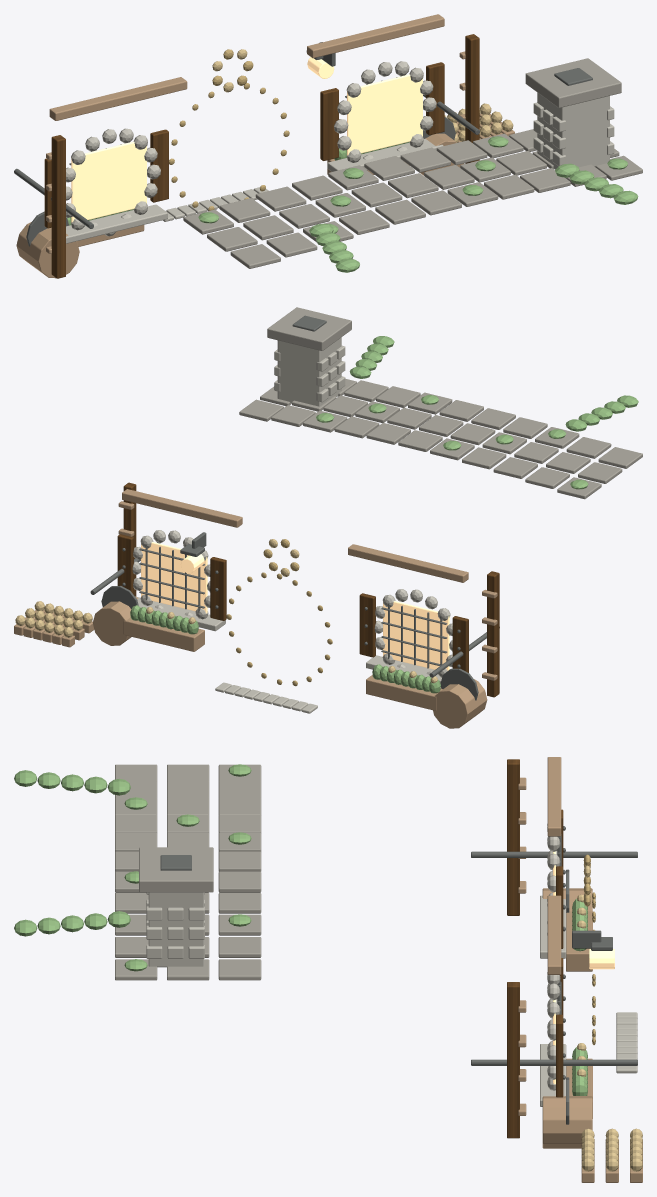
The model's file is shire_market_cottage_craftwork.glb.
3 views of the same model, one above another, from view 1: azimuth 30°, elevation 25°; view 2: azimuth 150°, elevation 25°; view 3: azimuth 270°, elevation 25° (orthographic). The views are drawn at different scales.
Parts seen in each view (by area): view 1: Art_roof_slate, Art_rounded_fieldstone, Art_amber_glass, Art_oak_grain_original, Art_weathered_wood, Art_ivy_and_herbs, Art_forged_iron, Art_household_motif_color, Art_warm_brass; view 2: Art_roof_slate, Art_weathered_wood, Art_rounded_fieldstone, Art_amber_glass, Art_oak_grain_original, Art_forged_iron, Art_ivy_and_herbs, Art_household_motif_color, Art_warm_brass; view 3: Art_roof_slate, Art_rounded_fieldstone, Art_weathered_wood, Art_ivy_and_herbs, Art_oak_grain_original, Art_forged_iron, Art_household_motif_color, Art_amber_glass.
Part boxes in pixels (bbox=[...]): Art_roof_slate: bbox=[183, 58, 642, 268]; Art_rounded_fieldstone: bbox=[66, 61, 614, 243]; Art_amber_glass: bbox=[71, 57, 422, 222]; Art_oak_grain_original: bbox=[44, 34, 479, 278]; Art_weathered_wood: bbox=[16, 14, 514, 278]; Art_ivy_and_herbs: bbox=[67, 136, 638, 272]; Art_forged_iron: bbox=[14, 42, 592, 246]; Art_household_motif_color: bbox=[212, 49, 513, 142]; Art_warm_brass: bbox=[169, 49, 289, 210]; Art_roof_slate: bbox=[239, 307, 642, 499]; Art_weathered_wood: bbox=[14, 489, 497, 728]; Art_rounded_fieldstone: bbox=[132, 337, 452, 713]; Art_amber_glass: bbox=[141, 542, 449, 670]; Art_oak_grain_original: bbox=[117, 482, 499, 697]; Art_forged_iron: bbox=[90, 315, 499, 700]; Art_ivy_and_herbs: bbox=[130, 336, 638, 693]; Art_household_motif_color: bbox=[15, 539, 437, 683]; Art_warm_brass: bbox=[226, 539, 332, 686]; Art_roof_slate: bbox=[115, 764, 261, 980]; Art_rounded_fieldstone: bbox=[146, 824, 637, 1106]; Art_weathered_wood: bbox=[518, 757, 642, 1182]; Art_ivy_and_herbs: bbox=[14, 764, 587, 1095]; Art_oak_grain_original: bbox=[507, 759, 563, 1138]; Art_forged_iron: bbox=[160, 826, 637, 1124]; Art_household_motif_color: bbox=[577, 863, 642, 1171]; Art_amber_glass: bbox=[553, 851, 614, 1084].
Size of the model in its own units: 8.62 by 4.02 by 8.6.
9 materials, 1 textured.
